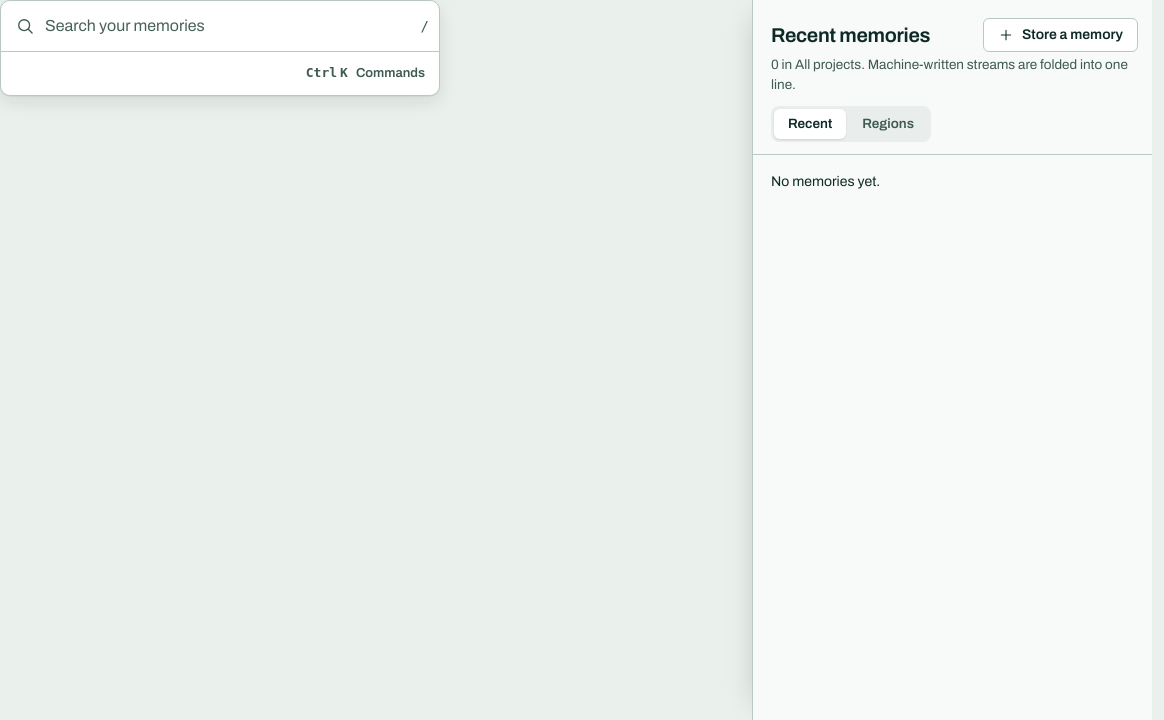
SearchBar with the sheet › drops a reply that a newer search overtook
Type "old" into the field named "Search memories".
click(228, 26); type("old")  # box top-left (45, 14), bottom-right (411, 38)
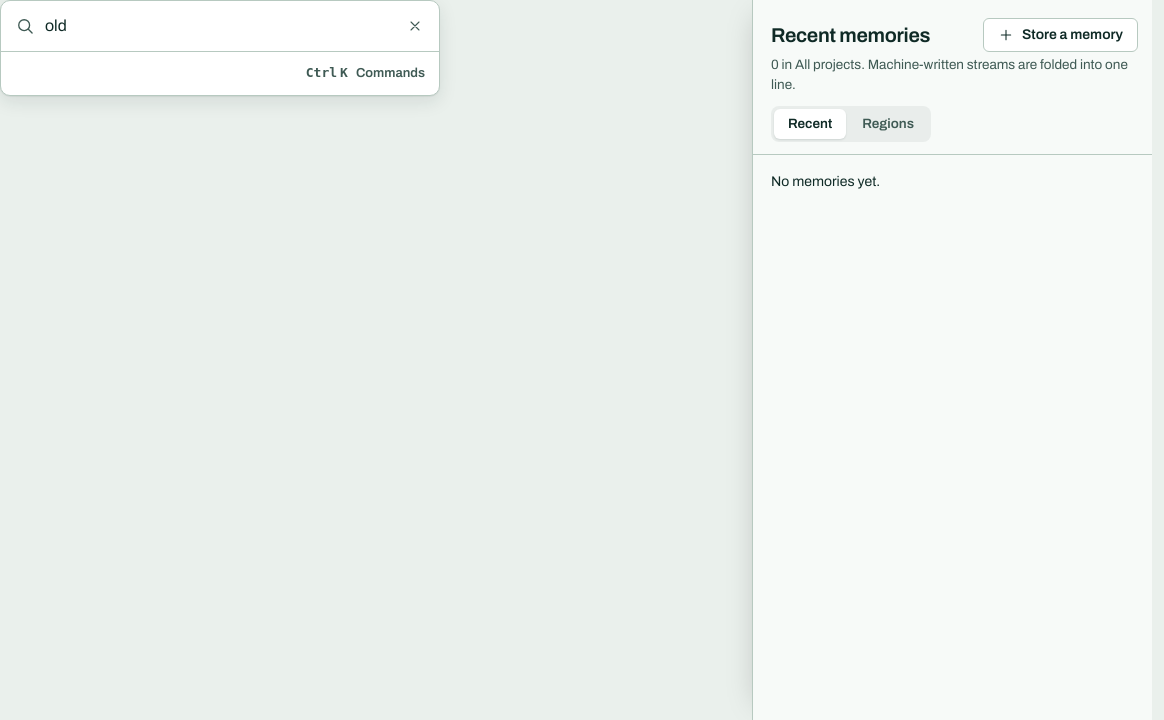
Press Enter in the field named "Search memories", box top-left (45, 14), bottom-right (391, 38)
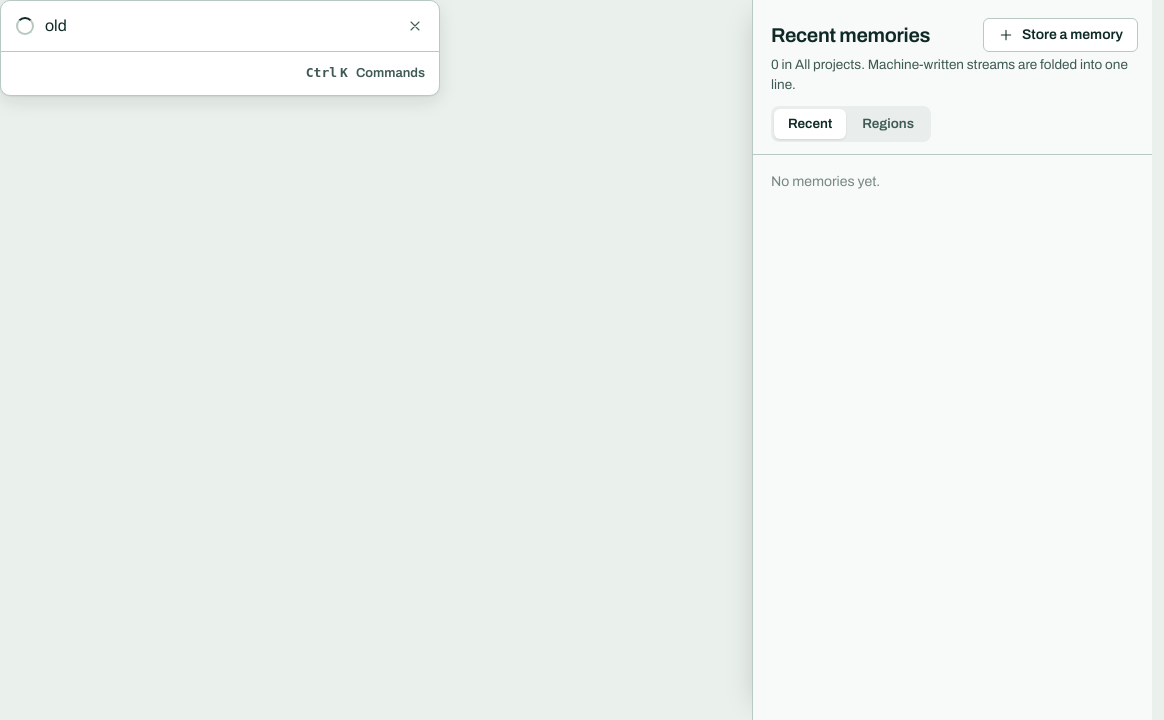
Replace the text in the field named "Search memories" with "new" at coordinates (218, 26), box top-left (45, 14), bottom-right (391, 38)
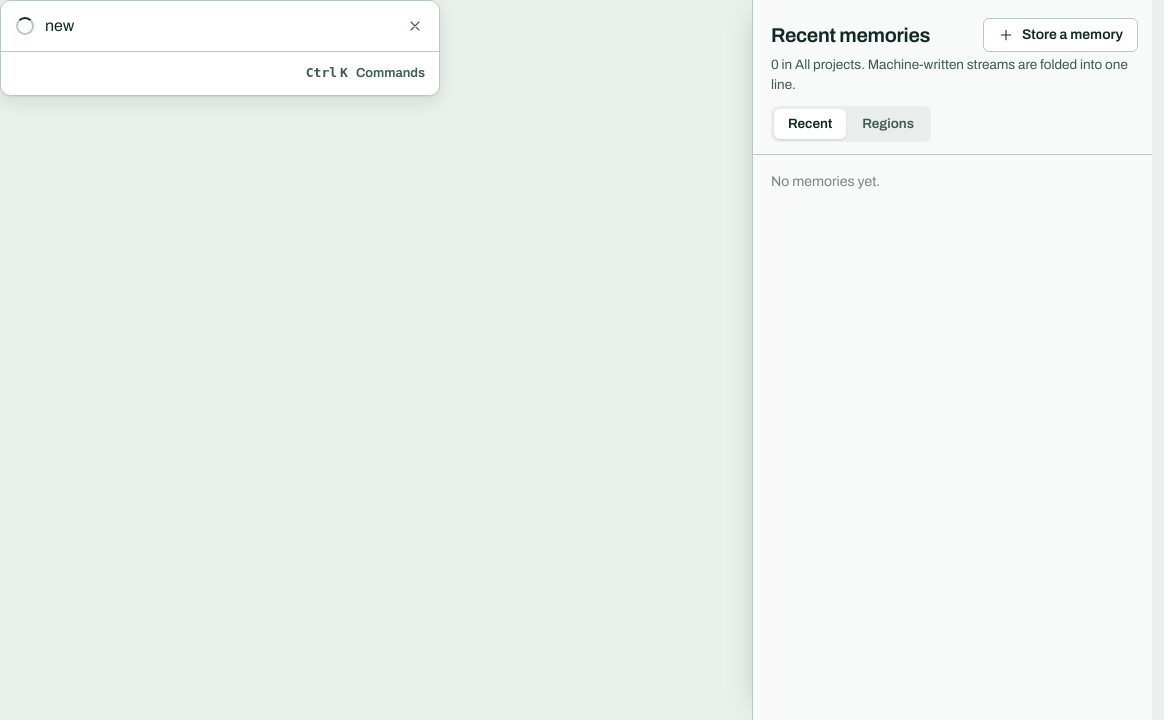
Press Enter in the field named "Search memories", box top-left (45, 14), bottom-right (391, 38)
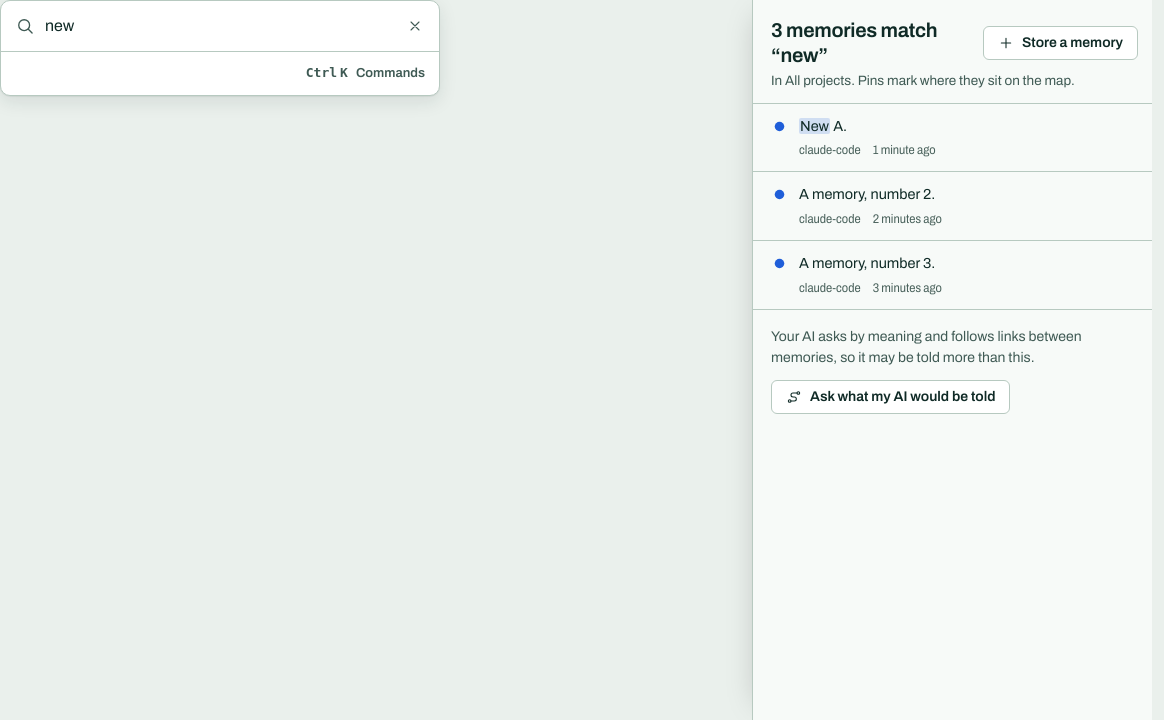
Expected: the heading "3 memories match “new”" is shown, top-left (771, 19), bottom-right (937, 66)
